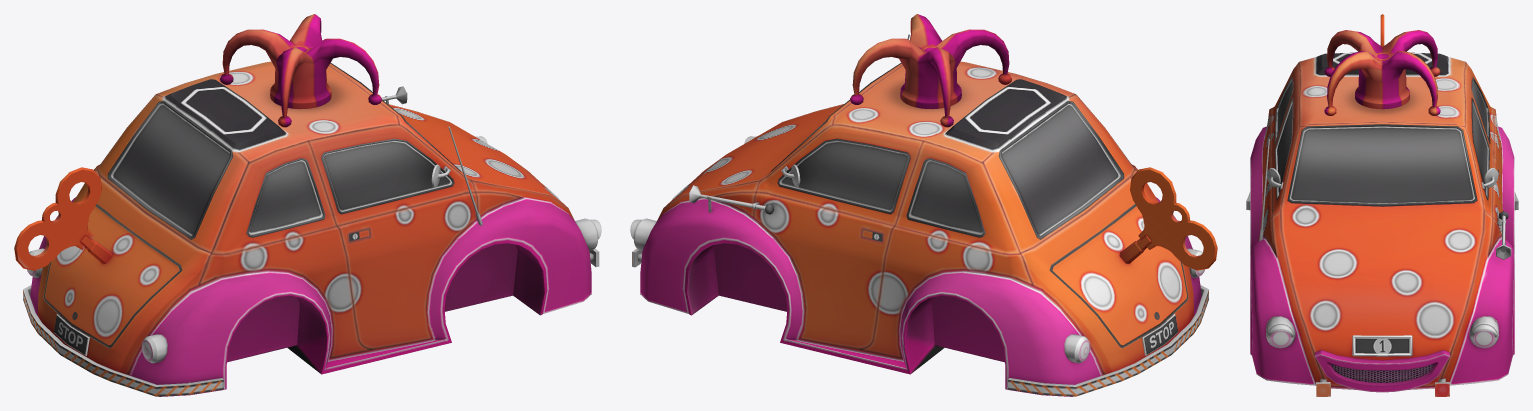
The model's file is f1_car_clown_02.dae.
The picture shows the model from 3 angles, left to right: view 1: azimuth 30°, elevation 25°; view 2: azimuth 150°, elevation 25°; view 3: azimuth 270°, elevation 25°; orthographic projection. The views are drawn at different scales.
Visible parts, largest first — view 1: car_body; view 2: car_body; view 3: car_body.
Part boxes in pixels (<box>): car_body: <box>14,14,601,396</box>; car_body: <box>630,14,1217,396</box>; car_body: <box>1246,14,1518,396</box>.
Size of the model in its own units: 0.4024 by 0.1936 by 0.1918.
1 material, 1 textured.
